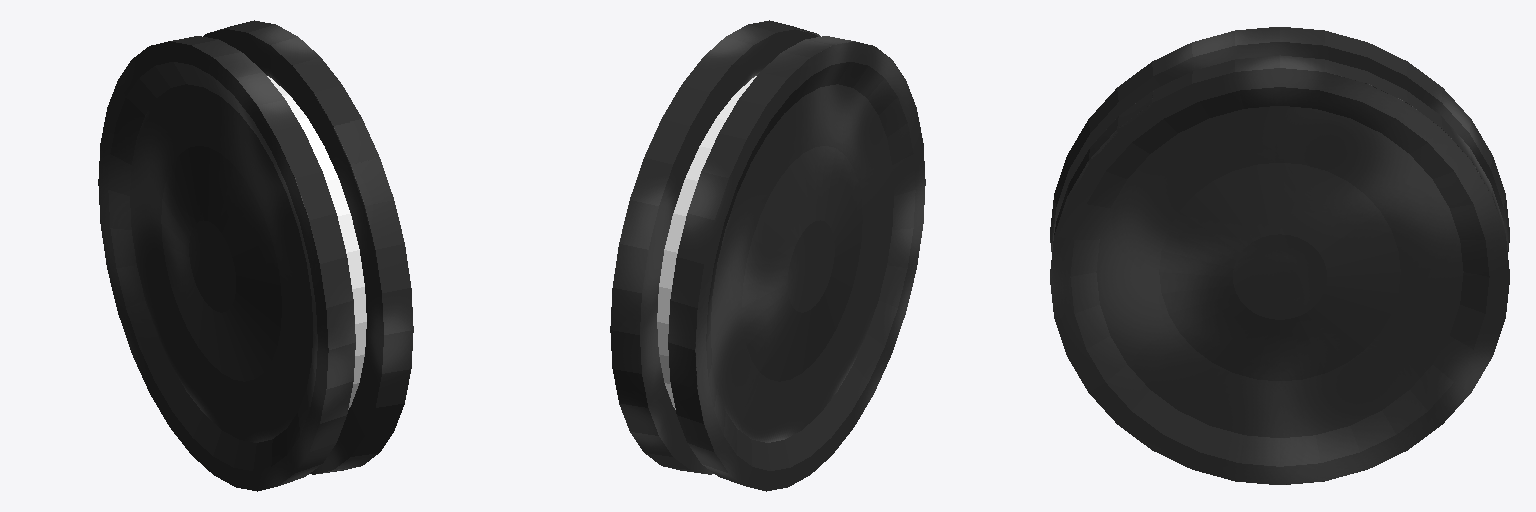
3 views of the same model, side by side, from view 1: azimuth 30°, elevation 25°; view 2: azimuth 150°, elevation 25°; view 3: azimuth 270°, elevation 25° (orthographic).
Visible parts, largest first — view 1: Sphere; view 2: Sphere; view 3: Sphere.
Part boxes in pixels (left/top/right/bottom): Sphere: left=98, top=20, right=413, bottom=491; Sphere: left=610, top=20, right=925, bottom=491; Sphere: left=1050, top=27, right=1509, bottom=484.
Bounding box in the file's own units: 0.4337 × 2 × 2.
Materials: 1 (1 with a texture image).